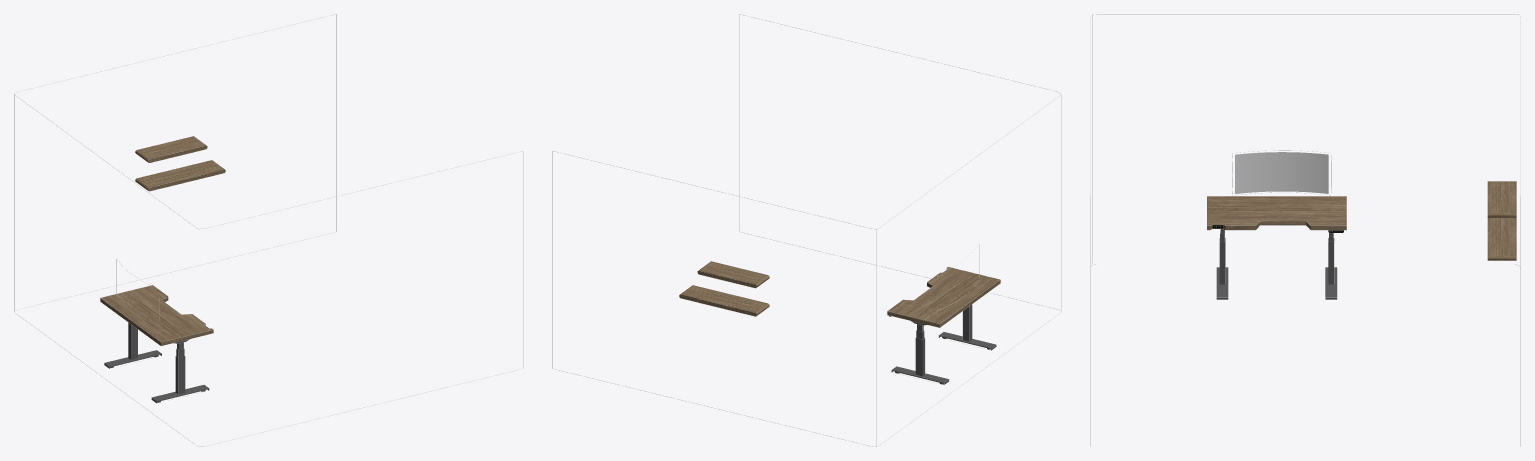
File: room.glb
3 views of the same model, side by side, from view 1: azimuth 30°, elevation 25°; view 2: azimuth 150°, elevation 25°; view 3: azimuth 270°, elevation 25° (orthographic). The views are drawn at different scales.
Visible parts, largest first — view 1: desk, rack, roomEnv, leg; view 2: desk, rack, roomEnv, leg; view 3: desk, windowNeon, rack, roomEnv, leg.
Part boxes in pixels (box(x1,y1,x2,y2)): desk: box(100, 285, 213, 345); rack: box(135, 136, 225, 191); roomEnv: box(14, 14, 523, 446); leg: box(104, 322, 209, 403); desk: box(887, 267, 1000, 327); rack: box(679, 261, 769, 316); roomEnv: box(552, 14, 1061, 446); leg: box(891, 304, 996, 384); desk: box(1207, 196, 1346, 229); windowNeon: box(1235, 152, 1328, 193); rack: box(1487, 181, 1516, 260); roomEnv: box(1090, 14, 1520, 446); leg: box(1216, 229, 1336, 299).
Bounding box in the file's own units: 35.45 × 22.76 × 35.38.
Materials: 7 (6 with a texture image).
